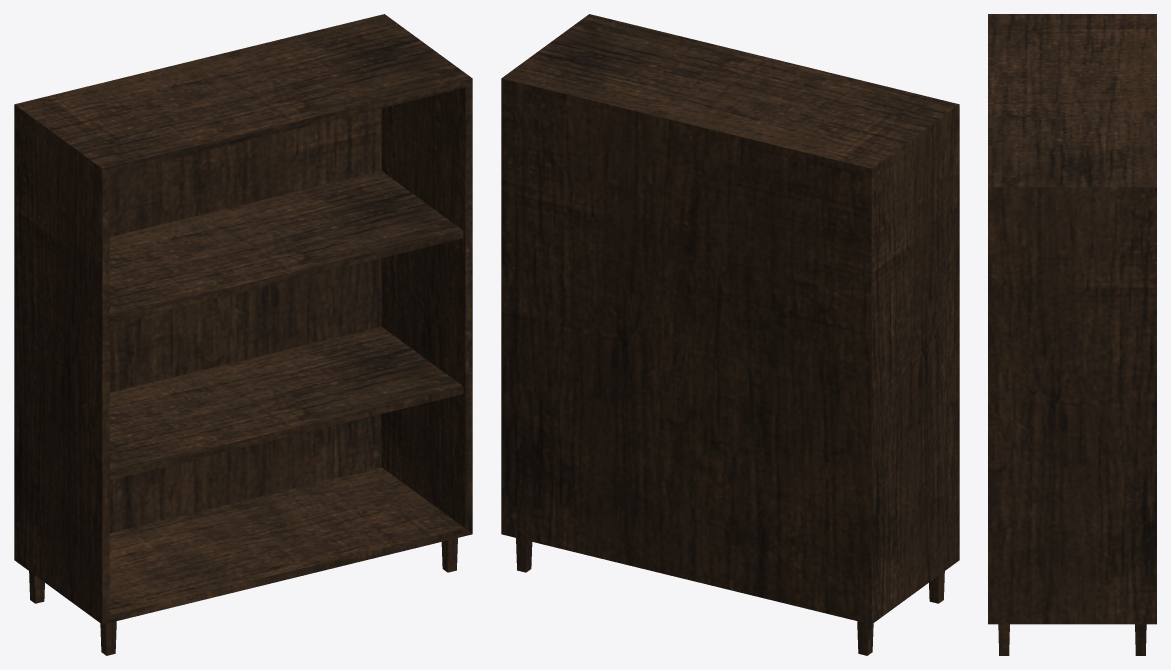
The model's file is shelf_mp_3_1.obj.
3 views of the same model, side by side, from view 1: azimuth 30°, elevation 25°; view 2: azimuth 150°, elevation 25°; view 3: azimuth 270°, elevation 25° (orthographic). The views are drawn at different scales.
Visible parts, largest first — view 1: shelf_mp_3_1; view 2: shelf_mp_3_1; view 3: shelf_mp_3_1.
Boxes of the visible parts, box(x1,y1,x2,y2) form: shelf_mp_3_1: box(14, 14, 472, 655); shelf_mp_3_1: box(501, 14, 959, 655); shelf_mp_3_1: box(988, 14, 1156, 655).
Bounding box in the file's own units: 1.02 × 1.3 × 0.42.
